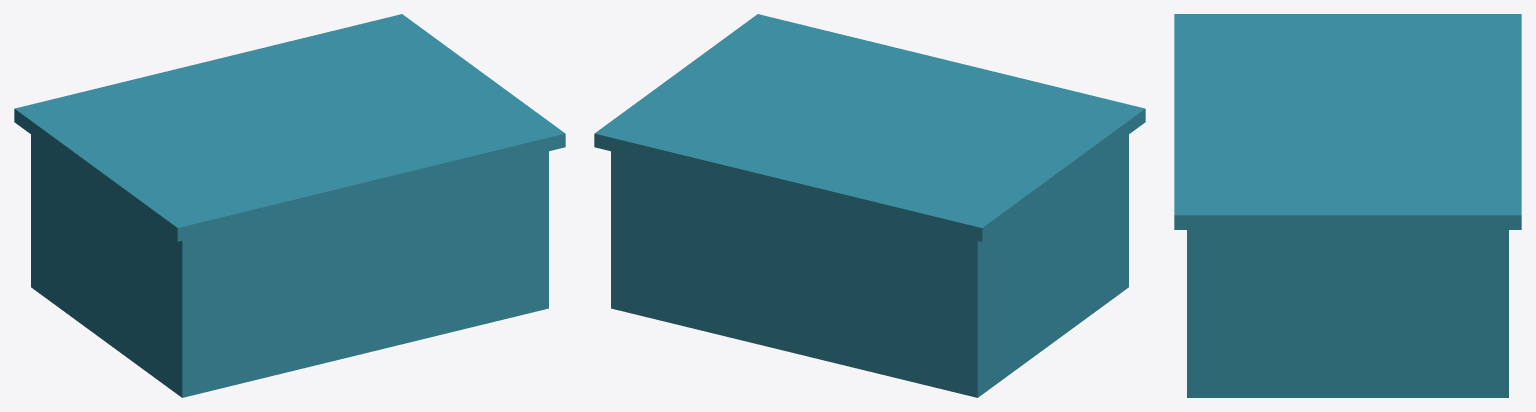
The model's file is agricultural-research-center.glb.
3 views of the same model, side by side, from view 1: azimuth 30°, elevation 25°; view 2: azimuth 150°, elevation 25°; view 3: azimuth 270°, elevation 25° (orthographic). The views are drawn at different scales.
Visible parts, largest first — view 1: agricultural-research-center-static-research-wall, agricultural-research-center-static-research-roof; view 2: agricultural-research-center-static-research-wall, agricultural-research-center-static-research-roof; view 3: agricultural-research-center-static-research-roof, agricultural-research-center-static-research-wall.
Boxes of the visible parts, bbox=[...] form: agricultural-research-center-static-research-wall: bbox=[31, 134, 548, 397]; agricultural-research-center-static-research-roof: bbox=[14, 14, 565, 241]; agricultural-research-center-static-research-wall: bbox=[611, 134, 1128, 397]; agricultural-research-center-static-research-roof: bbox=[594, 14, 1145, 241]; agricultural-research-center-static-research-roof: bbox=[1174, 14, 1521, 229]; agricultural-research-center-static-research-wall: bbox=[1187, 230, 1508, 397].
Bounding box in the file's own units: 7.4 × 3.22 × 5.4.
